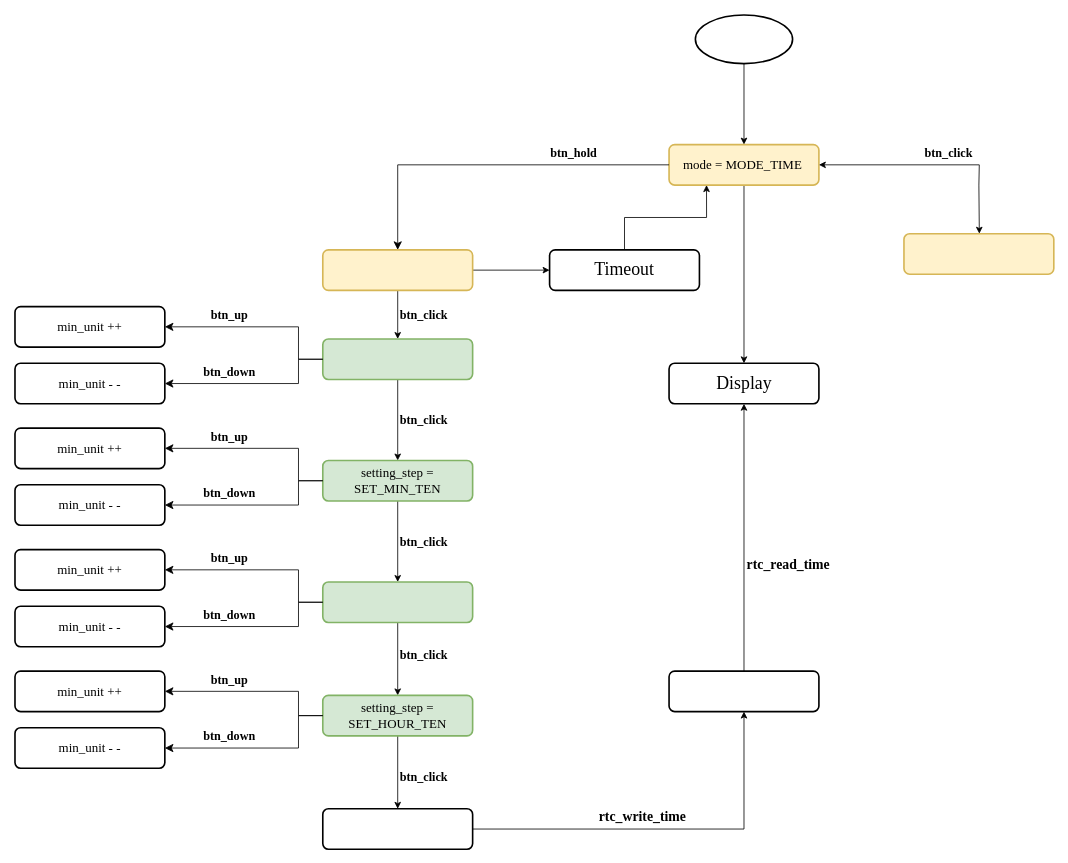
The diagram is 1068 pixels wide and 863 high, and some of its shapes have lost their labels. Here are the shapes that lost their labels. From the top down, the box of each, then its label:
(694, 14, 793, 64): BẮT ĐẦU
(322, 249, 473, 291): mode = MODE_SETTING
(903, 232, 1054, 275): mode = MODE_SENSOR
(322, 338, 473, 380): setting_step = SET_MIN_UNIT
(322, 581, 473, 623): setting_step = SET_HOUR_UNIT
(668, 670, 819, 712): RTC
(322, 808, 473, 850): minute =? hour = ?
